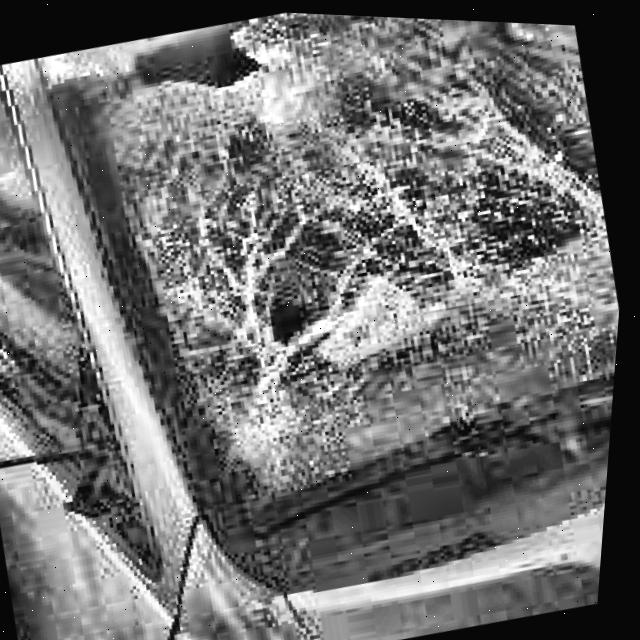glass_shatter: (171, 219, 438, 458), (71, 4, 353, 170)
